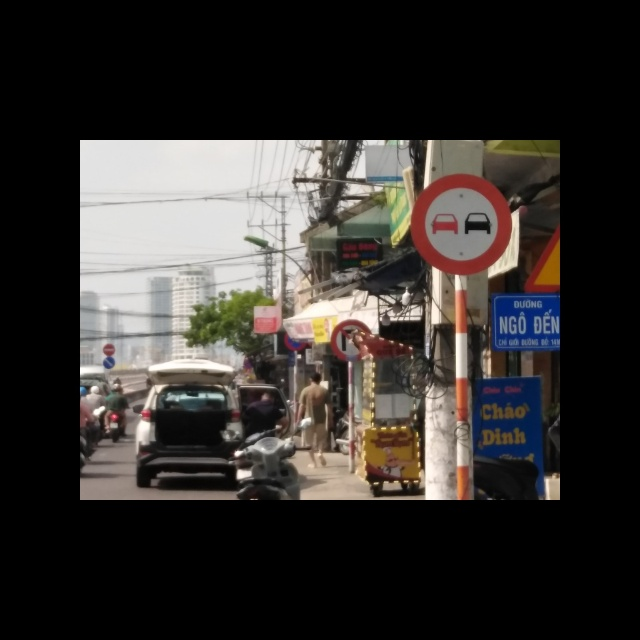Cấm vượt: (409, 172, 512, 273)
